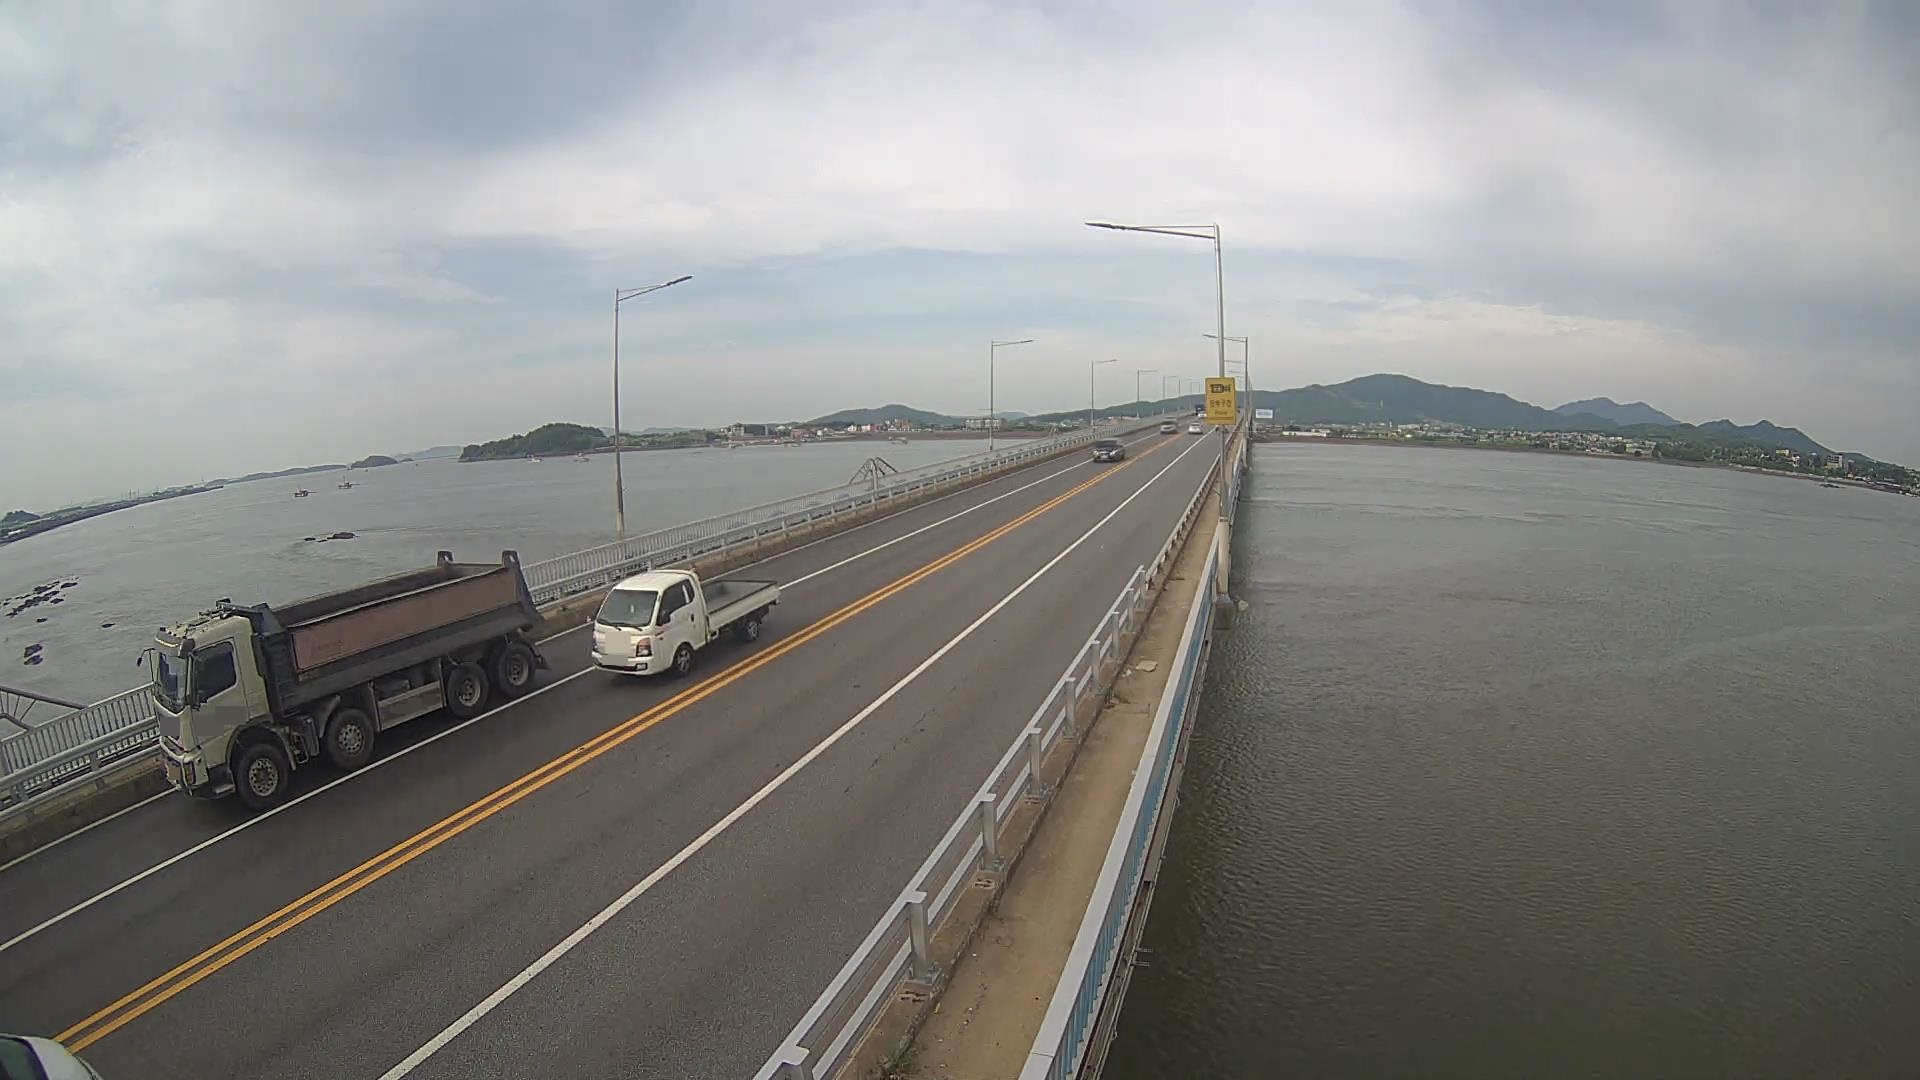정상차량: (136, 550, 551, 810)
